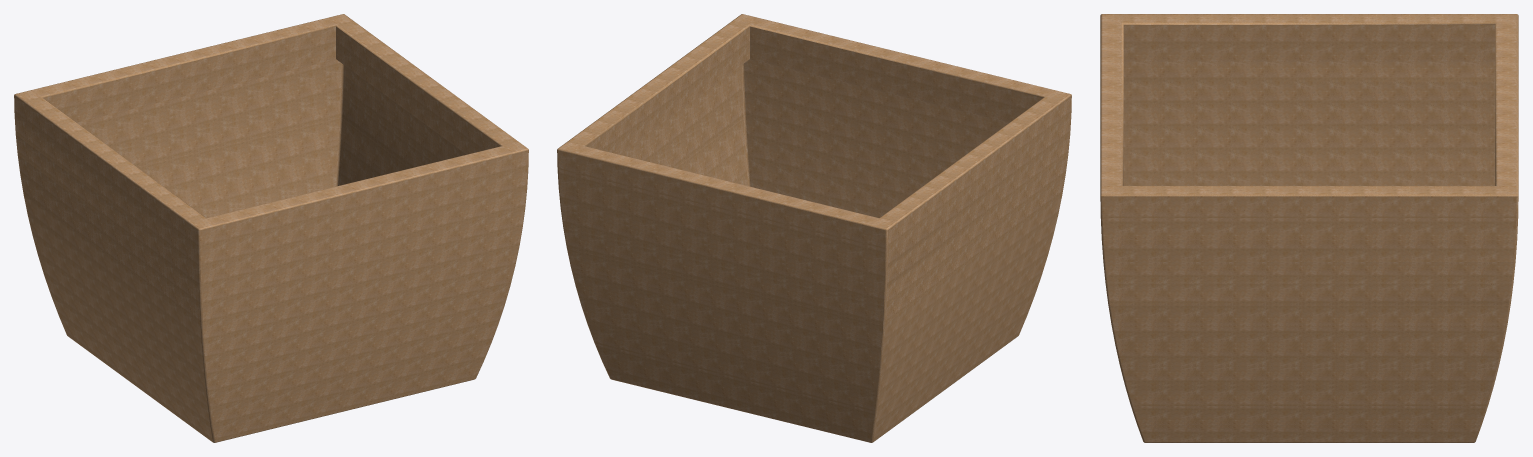
The model's file is tree_pot.obj.
3 views of the same model, side by side, from view 1: azimuth 30°, elevation 25°; view 2: azimuth 150°, elevation 25°; view 3: azimuth 270°, elevation 25° (orthographic). The views are drawn at different scales.
Visible parts, largest first — view 1: obj1; view 2: obj1; view 3: obj1.
Part boxes in pixels (box(x1,y1,x2,y2)): obj1: box(14, 14, 528, 442); obj1: box(557, 14, 1071, 442); obj1: box(1100, 14, 1518, 442).
Size of the model in its own units: 3.82 by 2.61 by 3.71.
1 material, 1 textured.
